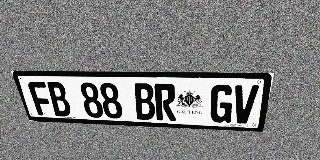8: (78, 82, 104, 118), (98, 83, 123, 119)
B: (45, 82, 73, 117), (133, 83, 156, 120)
F: (27, 81, 55, 116)
G: (210, 84, 235, 123)
R: (154, 84, 176, 121)
V: (231, 85, 259, 124)
